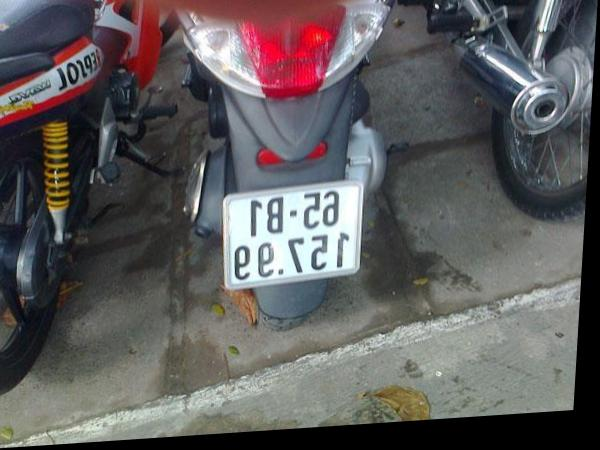License_Plate: (222, 181, 361, 290)
